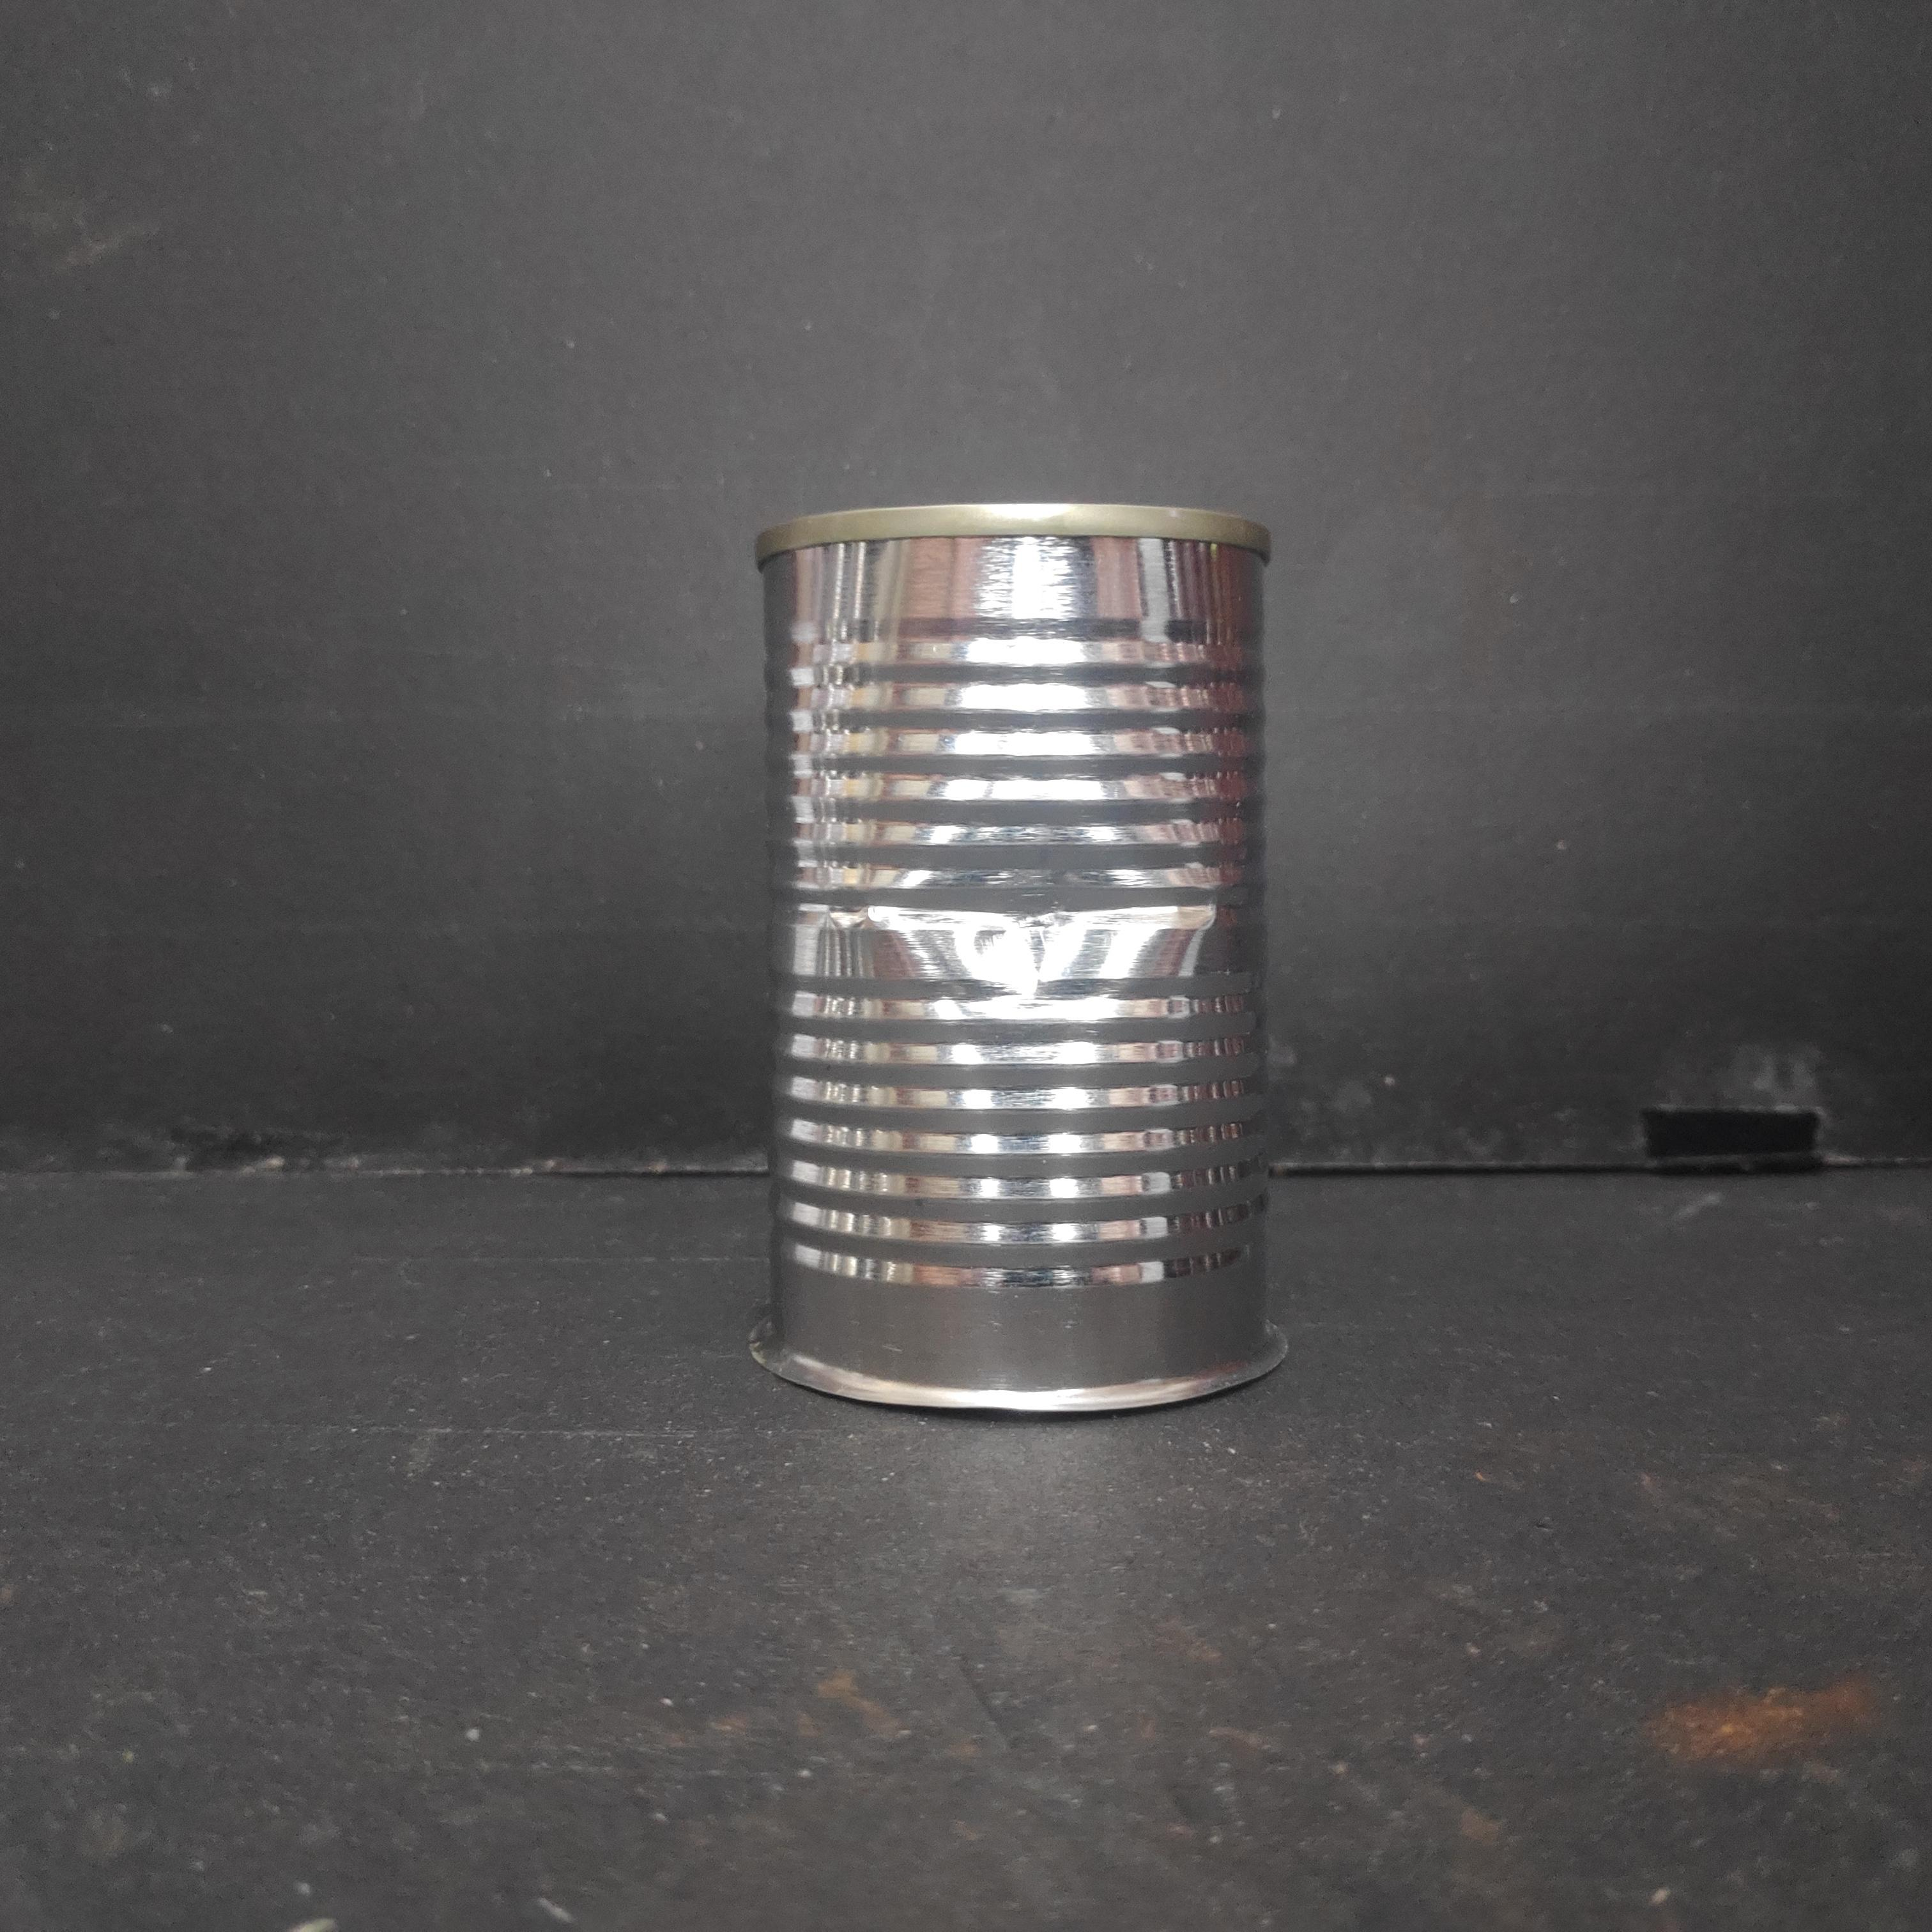Minor Defect: (740, 487, 1295, 1428)
